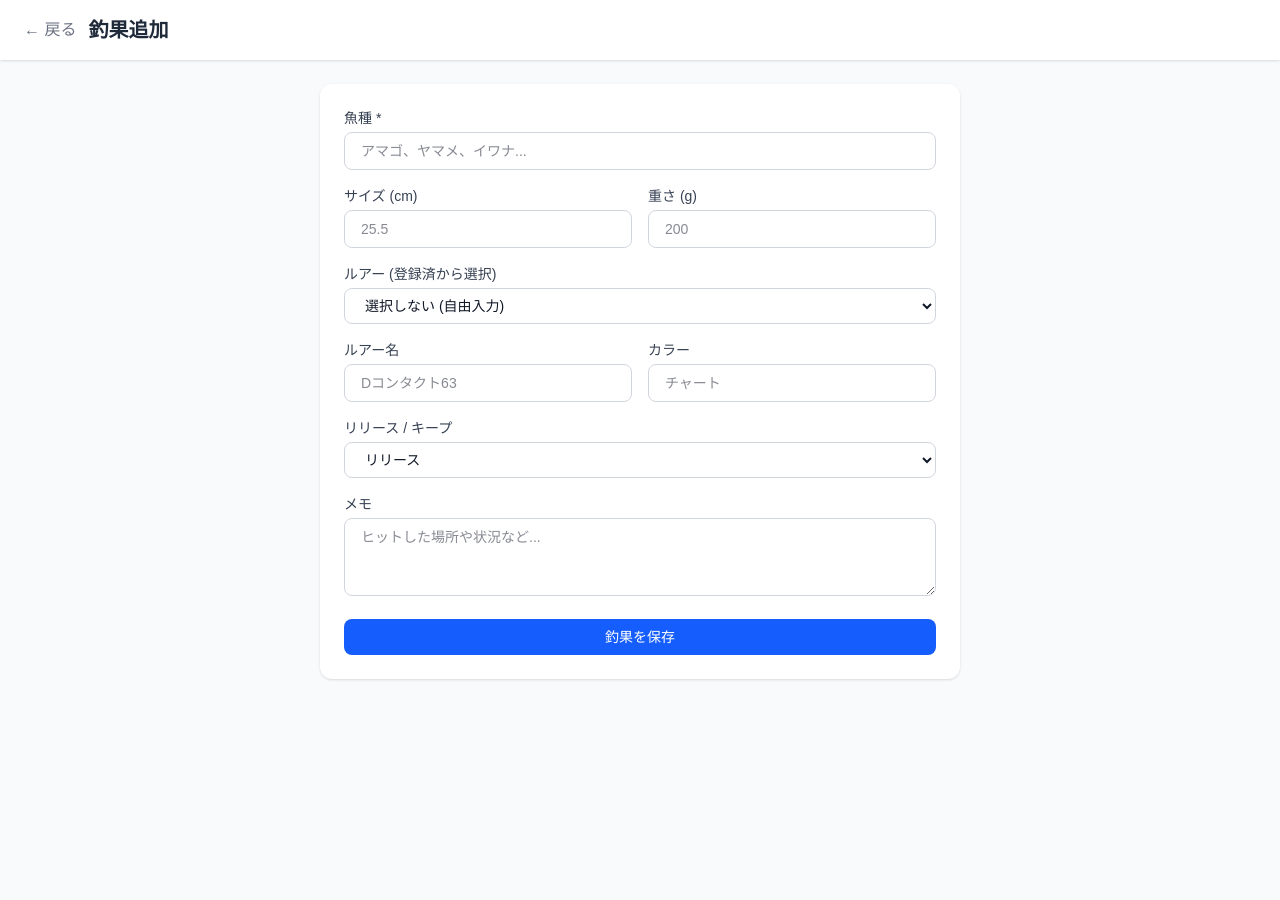
it: NewCatchPage › ルアー選択でルアー名/カラー欄が自動入力される
Select "Dコンタクト63 / チャート" in the dropdown labelled "ルアー (登録済から選択)" at point(640, 306), box [344,288,936,324]
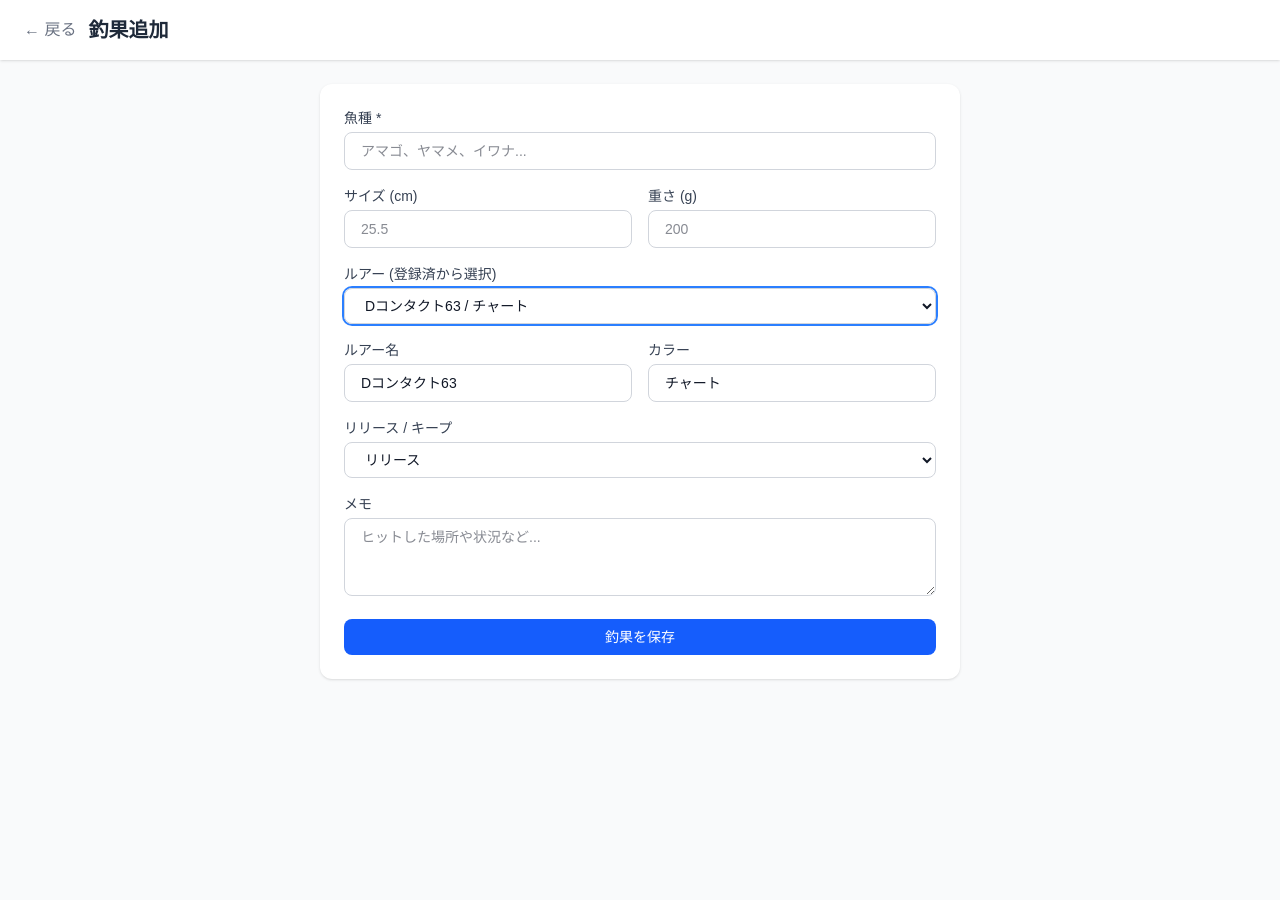
Now the field labelled "ルアー名" holds "Dコンタクト63", box [344,364,632,402]
Now the field labelled "カラー" holds "チャート", box [648,364,936,402]
